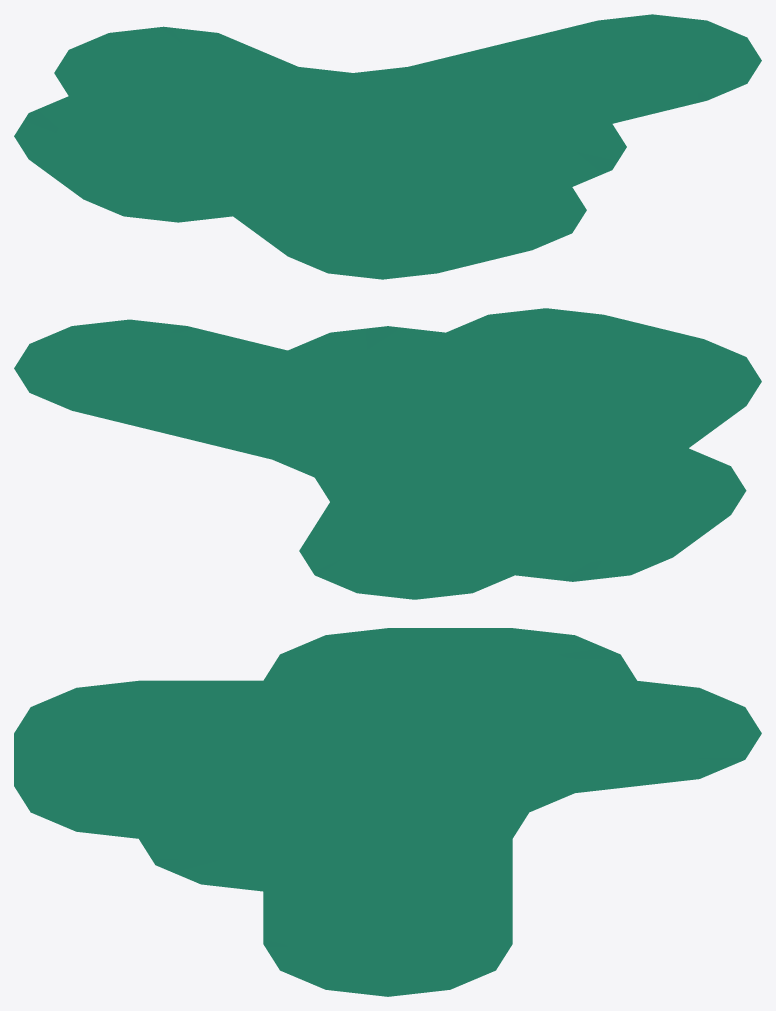
The model's file is patch-grass-large.glb.
3 views of the same model, one above another, from view 1: azimuth 30°, elevation 25°; view 2: azimuth 150°, elevation 25°; view 3: azimuth 270°, elevation 25° (orthographic). The views are drawn at different scales.
Visible parts, largest first — view 1: patch-grass-large; view 2: patch-grass-large; view 3: patch-grass-large.
Boxes of the visible parts, <box> form: patch-grass-large: <box>14,14,761,279</box>; patch-grass-large: <box>14,308,761,599</box>; patch-grass-large: <box>14,628,761,996</box>.
Size of the model in its own units: 1.4 by 0 by 1.2.
1 material, 1 textured.
